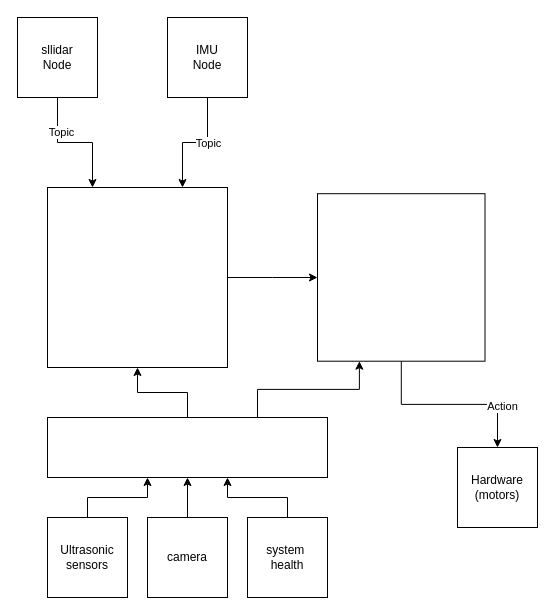
This 555x615 diagram has some shape labels left out. Here are the shapes that lost their labels. From the top down, the box of each, then its label:
(46, 186, 228, 368): navigator_core Node
(316, 193, 485, 361): motion_controller Node
(46, 416, 328, 478): safety_supervisor
